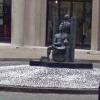Statue: (38, 12, 84, 63)
